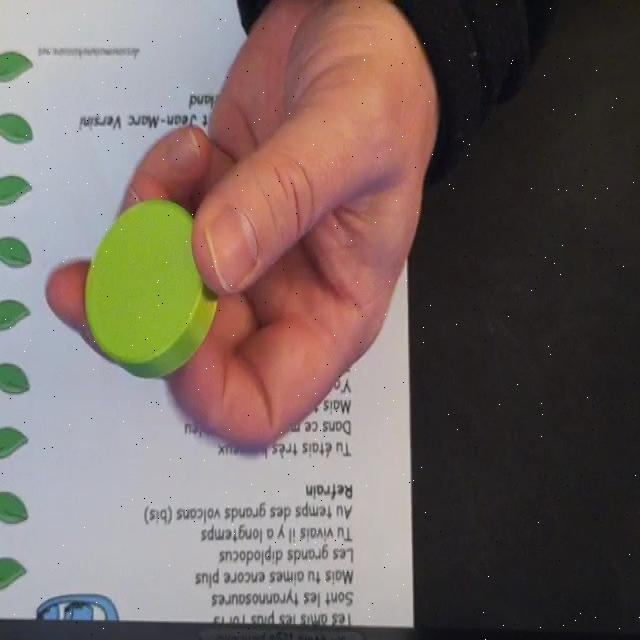round: (84, 198, 219, 378)
